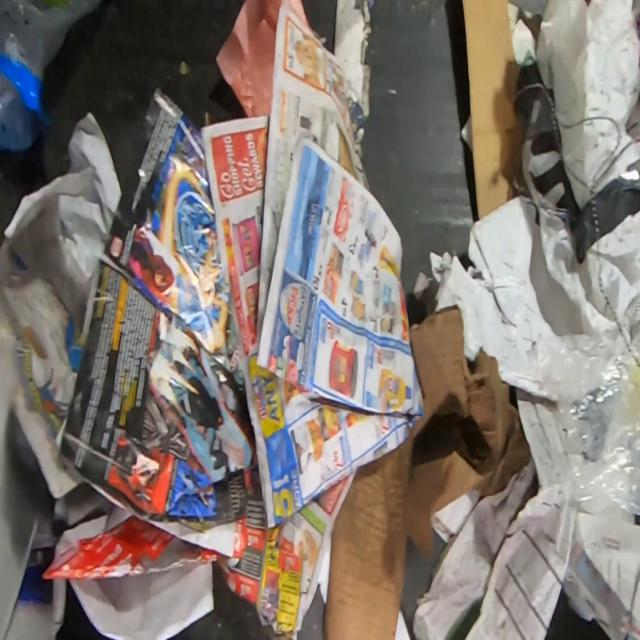cardboard: (323, 304, 532, 640), (462, 0, 527, 223)
soft_plastic: (525, 322, 640, 518), (0, 0, 103, 153), (41, 514, 225, 580)
